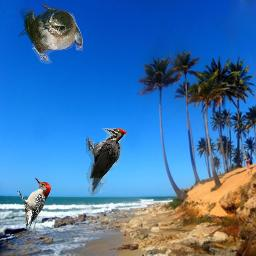Swallow: (16, 4, 83, 65)
Woodpecker: (86, 128, 127, 196), (15, 176, 52, 231)
